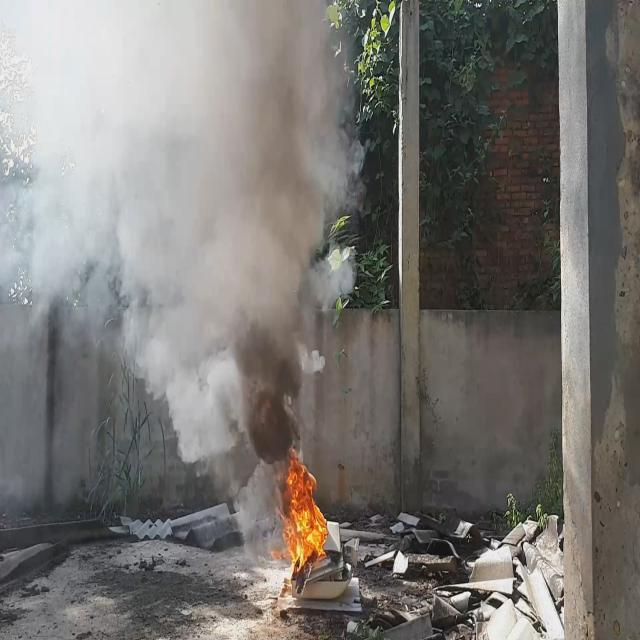Fire: (281, 451, 333, 572)
Smoke: (0, 0, 360, 542)
